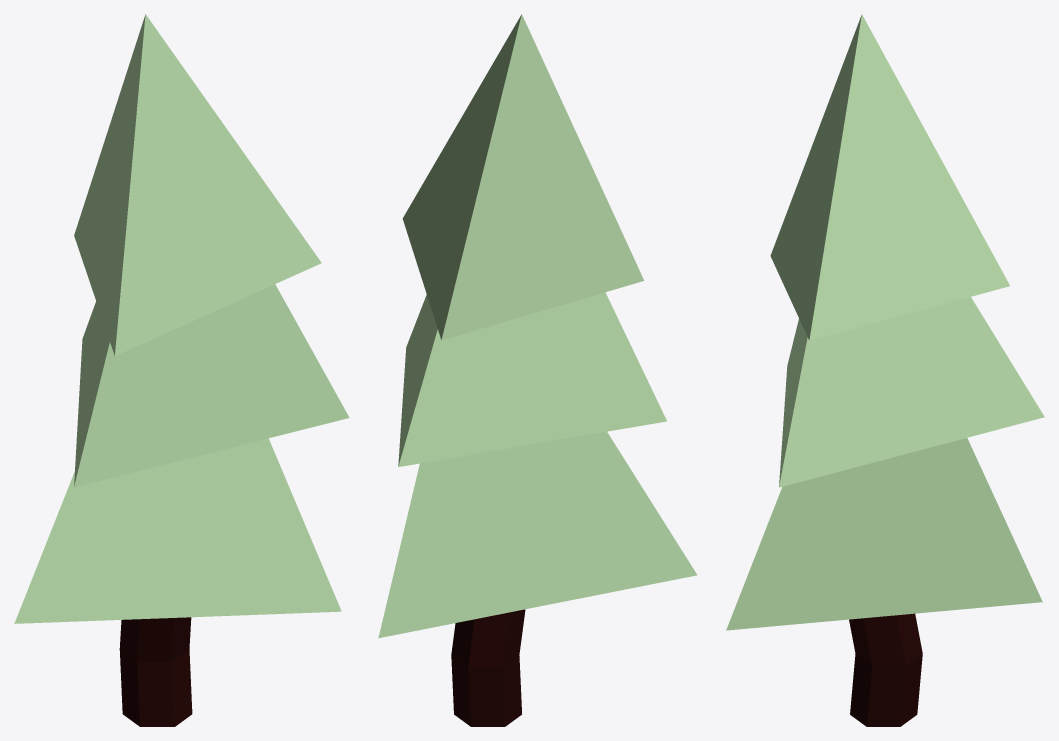
Rendered from Tree_1.fbx.
3 renders of one model, left to right at view 1: azimuth 30°, elevation 25°; view 2: azimuth 150°, elevation 25°; view 3: azimuth 270°, elevation 25°, orthographic. The views are drawn at different scales.
Parts seen in each view (by area): view 1: Cylinder; view 2: Cylinder; view 3: Cylinder.
Part boxes in pixels (<box>): Cylinder: <box>14,14,349,726</box>; Cylinder: <box>378,14,697,726</box>; Cylinder: <box>726,14,1044,726</box>.
Bounding box in the file's own units: 187 × 403 × 169.
